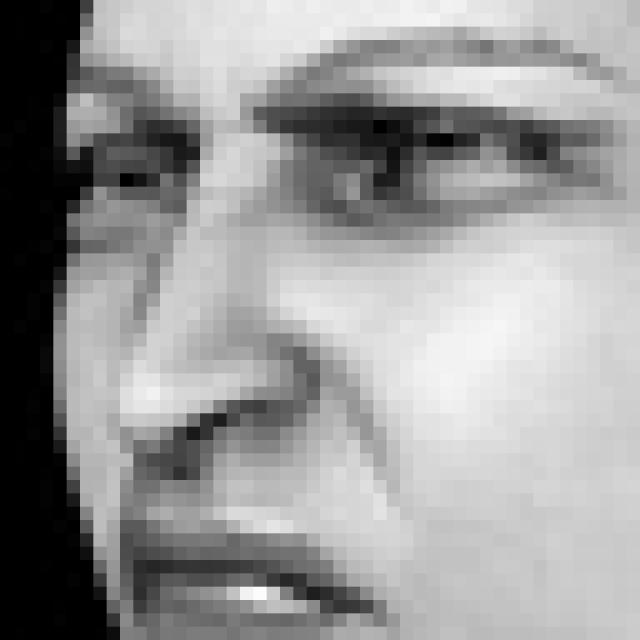disgust: (68, 38, 613, 640)
